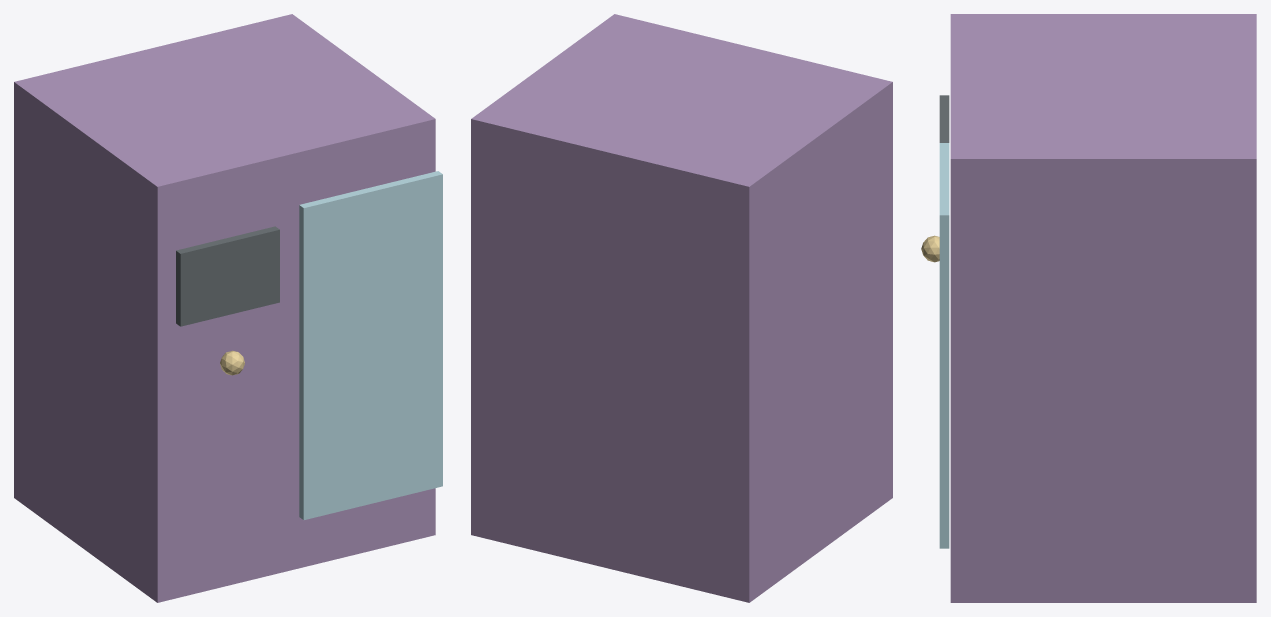
The model's file is photo_booth.glb.
3 renders of one model, left to right at view 1: azimuth 30°, elevation 25°; view 2: azimuth 150°, elevation 25°; view 3: azimuth 270°, elevation 25°, orthographic. The views are drawn at different scales.
Parts seen in each view (by area): view 1: part_00, part_01, part_02; view 2: part_00; view 3: part_00, part_01, part_02.
Part boxes in pixels (x1,y1,x2,y2): part_00: (14, 14, 435, 602); part_01: (299, 171, 442, 519); part_02: (176, 226, 279, 326); part_00: (471, 14, 892, 602); part_00: (950, 14, 1256, 602); part_01: (939, 143, 949, 548); part_02: (939, 95, 949, 142).
Bounding box in the file's own units: 1.41 × 2 × 1.37.
